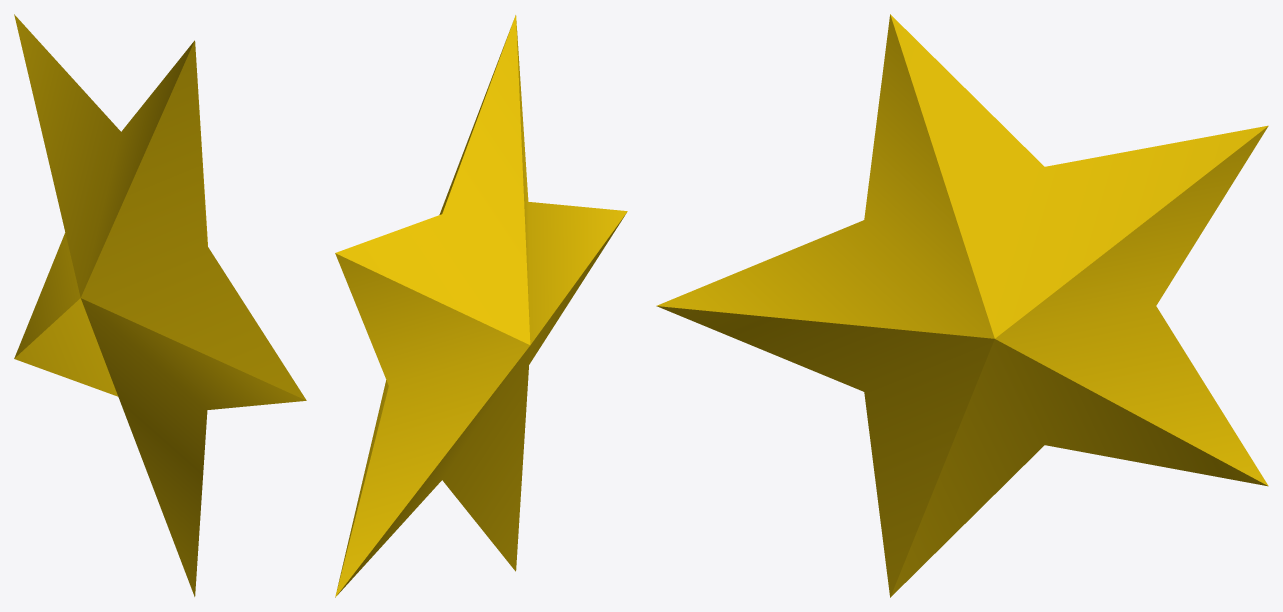
File: Star.glb
The picture shows the model from 3 angles, left to right: view 1: azimuth 30°, elevation 25°; view 2: azimuth 150°, elevation 25°; view 3: azimuth 270°, elevation 25°; orthographic projection. The views are drawn at different scales.
Visible parts, largest first — view 1: pCylinder3; view 2: pCylinder3; view 3: pCylinder3.
Part boxes in pixels (<box>): pCylinder3: <box>14,14,306,596</box>; pCylinder3: <box>335,15,627,597</box>; pCylinder3: <box>656,14,1268,597</box>.
Size of the model in its own units: 49.11 by 204 by 194.
